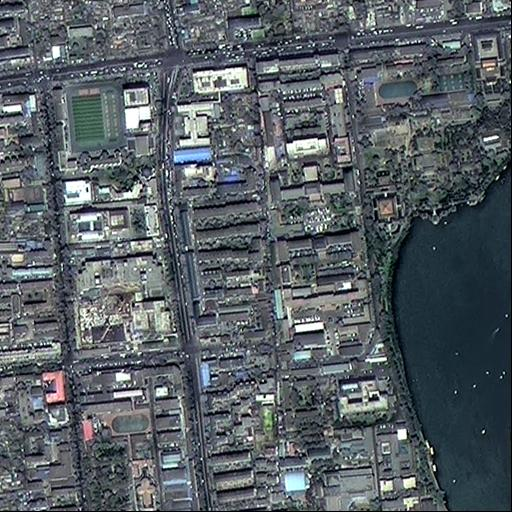school: (49, 66, 170, 208), (347, 52, 476, 115), (76, 392, 152, 446)
